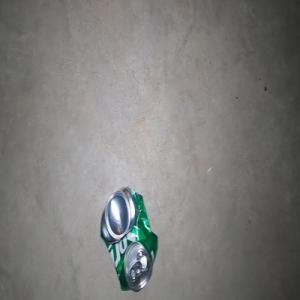SodaCan: (100, 186, 157, 292)
